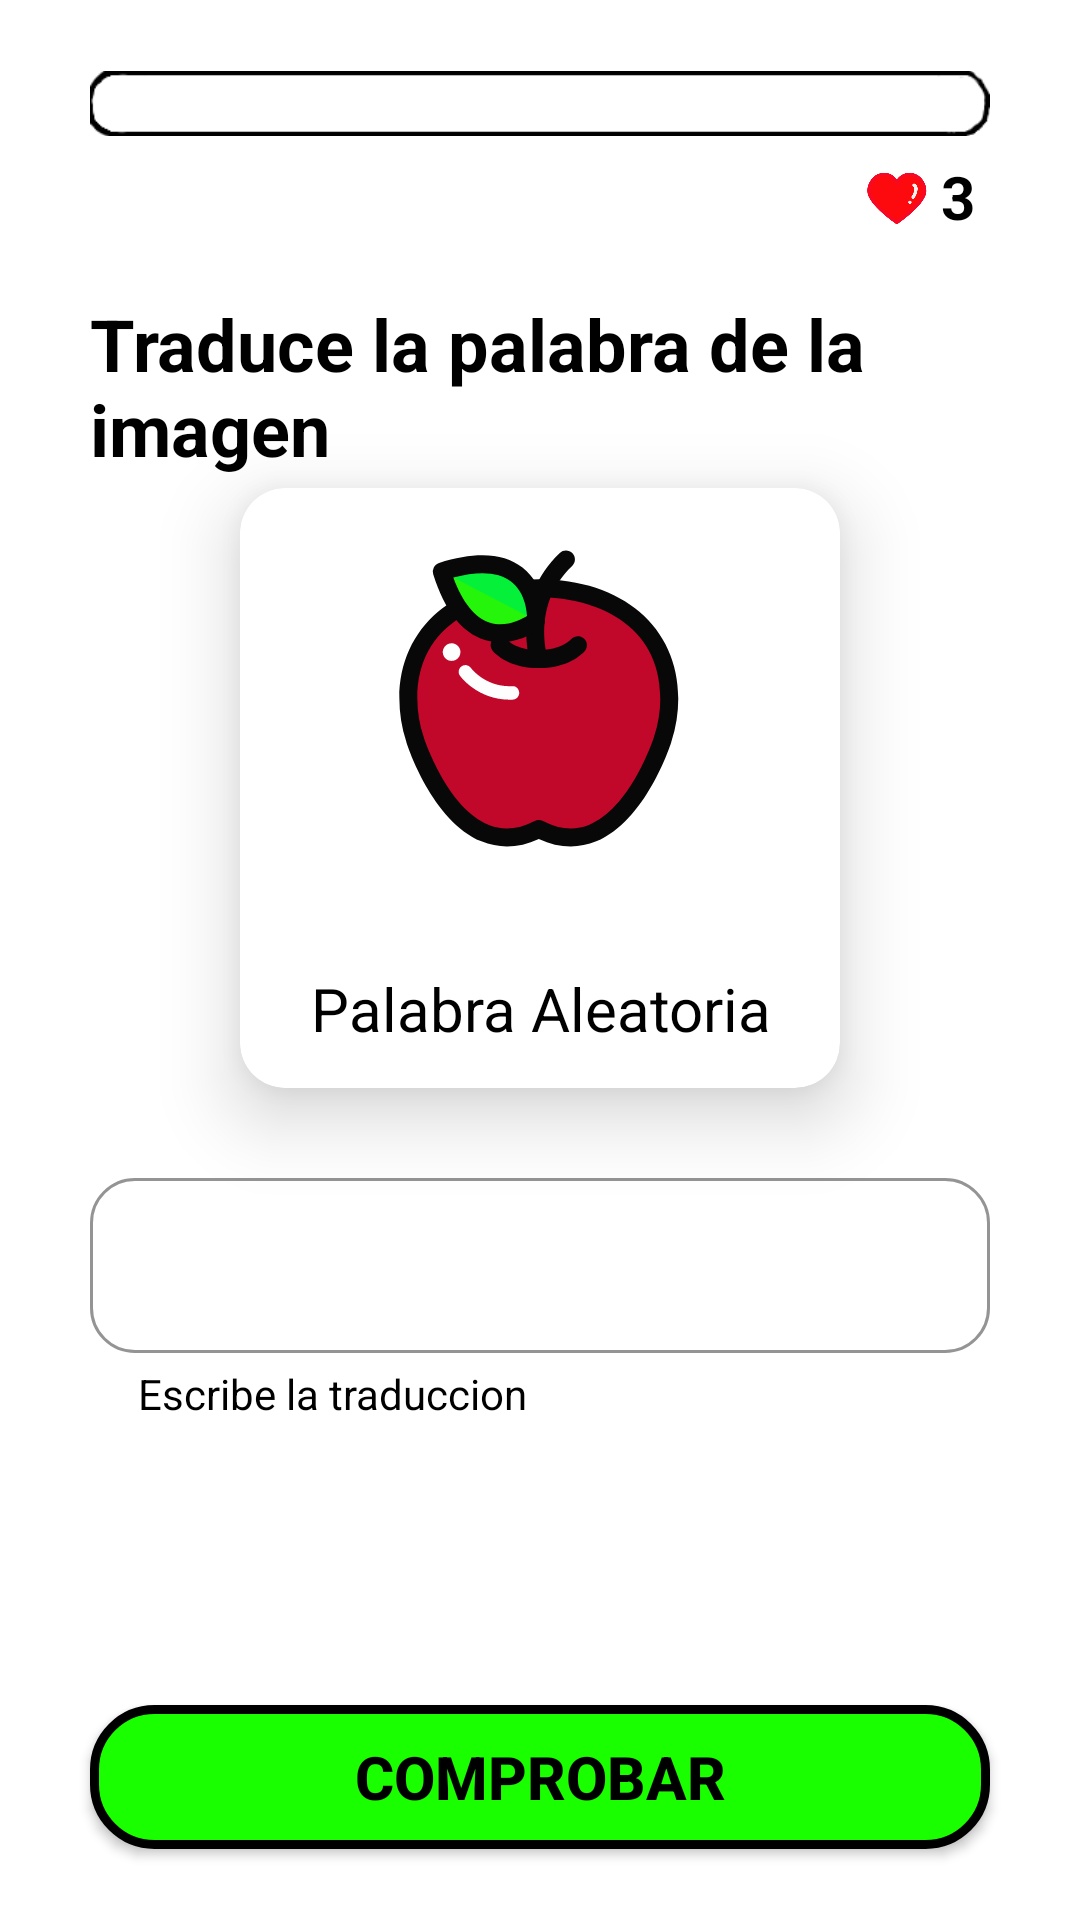

Screen size 1080 x 1920. Icon name, then its box in pixels as (x1, y1, x2, y2):
applesvg: (399, 550, 679, 847)
heart: (867, 173, 927, 224)
